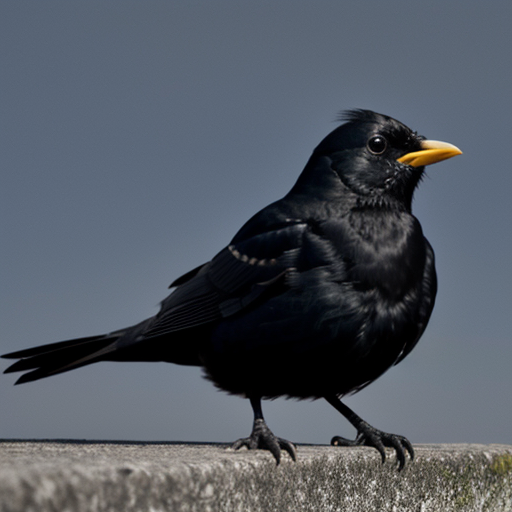bird: (1, 110, 461, 469)
